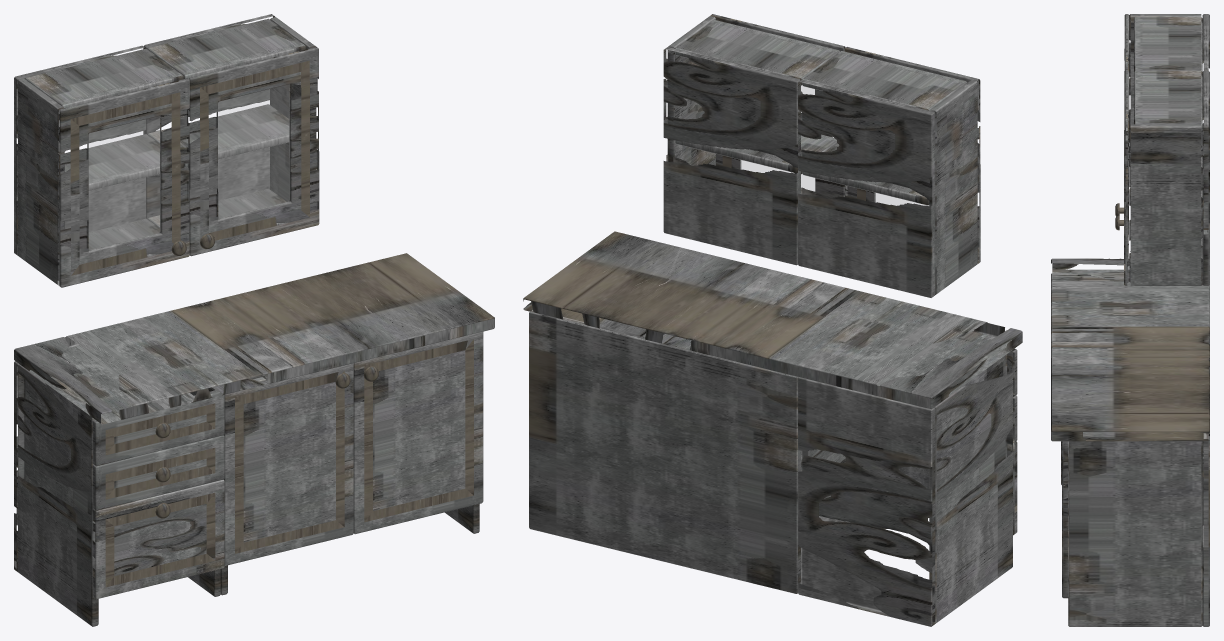
The model's file is CabinetWithFloatingShelves.fbx.
3 renders of one model, left to right at view 1: azimuth 30°, elevation 25°; view 2: azimuth 150°, elevation 25°; view 3: azimuth 270°, elevation 25°, orthographic. The views are drawn at different scales.
Parts seen in each view (by area): view 1: CabinetWithFloatingShelves, LowerRightCabinetDoor, LowerLeftCabinetDoor, Cabinet_Side_B.012_Material_0, UpperLeftCabinetDoor, UpperRightCabinetDoor, Cabinet_FrontB.004_Material_0, Cabinet_FrontC.003_Material_0, Cabinet_Shelf_B.006_Material_0, Cabinet_Back_D.003_Material_0, Cabinet_FrontGlass_A.006_glass_0.001, Cabinet_FrontGlass_A.006_glass_0 (+6 smaller); view 2: Cabinet_Back_B.005_Material_0, Cabinet_Back_D.003_Material_0, CabinetWithFloatingShelves, Cabinet_Back_C.003_Material_0, Cabinet_Side_B.012_Material_0, Cabinet_Shelf_B.006_Material_0, Cabinet_Side_C.007_Material_0, Cabinet_Shelf_B.008_Material_0, Cabinet_Side_C.008_Material_0, UpperLeftCabinetDoor, UpperRightCabinetDoor, Cabinet_FrontB.004_Material_0; view 3: CabinetWithFloatingShelves, Cabinet_Side_B.010_Material_0, Cabinet_Side_C.008_Material_0, Cabinet_Shelf_B.006_Material_0, Cabinet_Back_D.003_Material_0, Cabinet_Back_B.005_Material_0, UpperRightCabinetDoor, LowerRightCabinetDoor, Cabinet_Side_C.007_Material_0, UpperLeftCabinetDoor.
Boxes of the visible parts, x1,y1,x2,y2 form: CabinetWithFloatingShelves: (14,253,494,424); LowerRightCabinetDoor: (353,332,483,534); LowerLeftCabinetDoor: (223,363,353,565); Cabinet_Side_B.012_Material_0: (18,364,98,626); UpperLeftCabinetDoor: (59,78,189,287); UpperRightCabinetDoor: (188,47,319,256); Cabinet_FrontB.004_Material_0: (92,479,224,599); Cabinet_FrontC.003_Material_0: (92,390,224,510); Cabinet_Shelf_B.006_Material_0: (25,18,306,107); Cabinet_Back_D.003_Material_0: (14,14,274,255); Cabinet_FrontGlass_A.006_glass_0.001: (218,84,289,218); Cabinet_FrontGlass_A.006_glass_0: (89,116,160,249); Cabinet_Back_B.005_Material_0: (529,310,798,593); Cabinet_Back_D.003_Material_0: (663,47,935,297); CabinetWithFloatingShelves: (523,231,1022,409); Cabinet_Back_C.003_Material_0: (798,377,935,626); Cabinet_Side_B.012_Material_0: (929,350,1012,623); Cabinet_Shelf_B.006_Material_0: (675,20,967,111); Cabinet_Side_C.007_Material_0: (930,80,977,294); Cabinet_Shelf_B.008_Material_0: (675,134,936,205); Cabinet_Side_C.008_Material_0: (667,16,715,165); UpperLeftCabinetDoor: (844,47,980,263); UpperRightCabinetDoor: (710,14,846,198); Cabinet_FrontB.004_Material_0: (898,440,1017,535); CabinetWithFloatingShelves: (1051,258,1209,441); Cabinet_Side_B.010_Material_0: (1068,441,1202,626); Cabinet_Side_C.008_Material_0: (1129,124,1202,285); Cabinet_Shelf_B.006_Material_0: (1134,17,1202,129); Cabinet_Back_D.003_Material_0: (1202,14,1209,285); Cabinet_Back_B.005_Material_0: (1202,433,1209,626); UpperRightCabinetDoor: (1124,70,1129,285); LowerRightCabinetDoor: (1062,441,1068,598); Cabinet_Side_C.007_Material_0: (1129,14,1201,152); UpperLeftCabinetDoor: (1124,14,1129,190).
Size of the model in its own units: 168 by 201 by 65.
